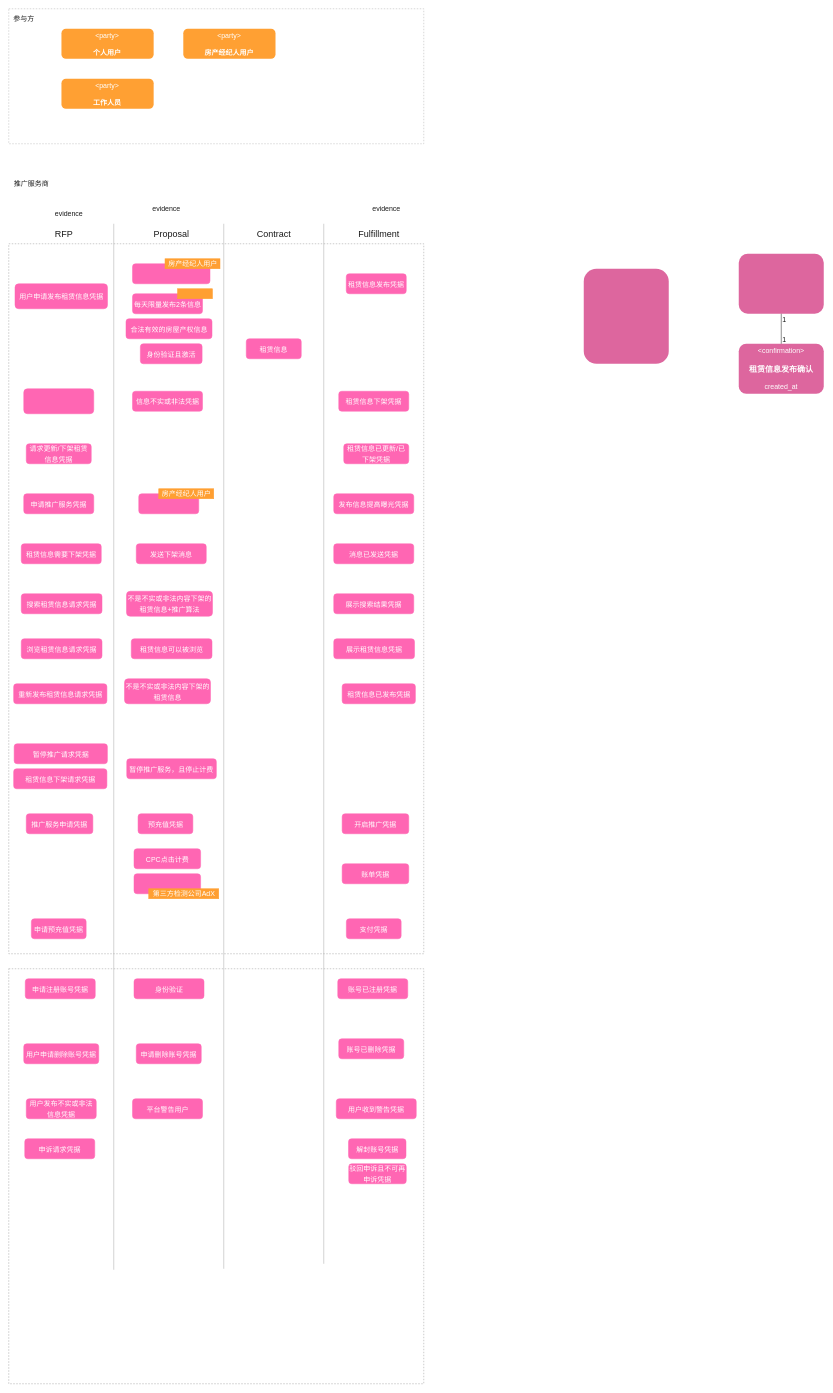
Image size: 833x1393. Some labels were removed from this diagram. The box of each missing label's shape, as (x1, y1, x2, y2) in pixels:
<contract> 租赁信息 created_at city district street photo description: (584, 268, 668, 364)
<fulfillment> 租赁信息发布请求 created_at expired_at: (738, 254, 824, 314)
个人用户: (177, 288, 212, 299)
广告点击次数: (134, 873, 201, 894)
推广服务费用: (138, 493, 199, 514)
每天限量发布50条 信息: (132, 263, 210, 284)
用户举报不实或非法信息凭据: (23, 388, 94, 414)
